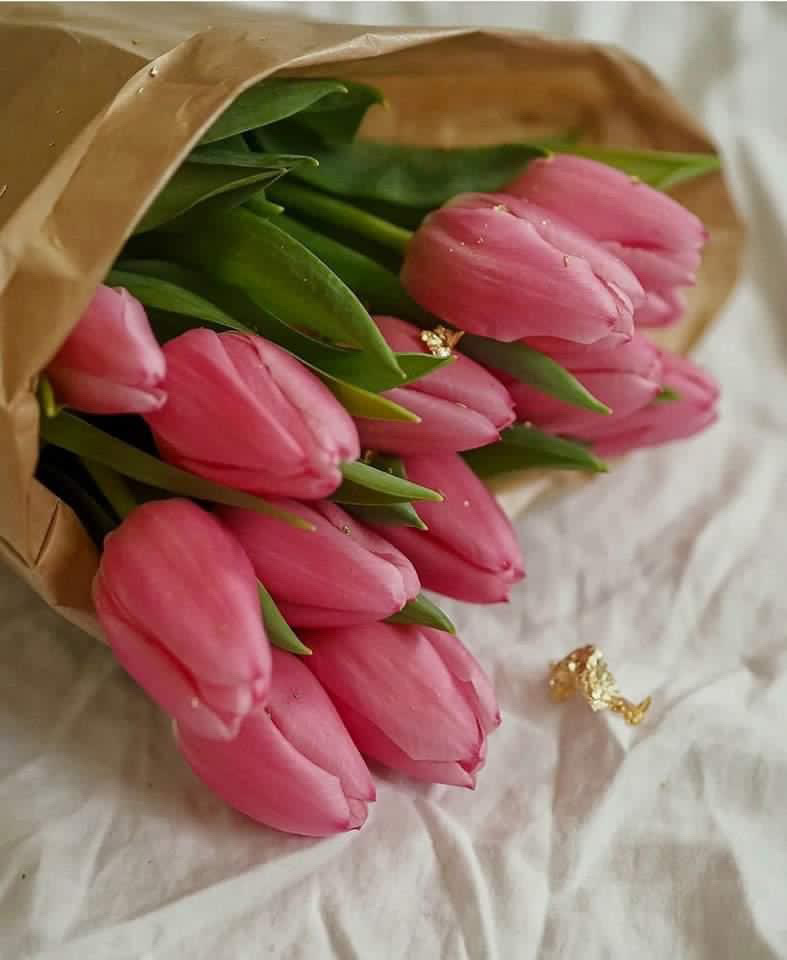tulip: (92, 494, 282, 750), (316, 571, 516, 802), (157, 314, 368, 518), (415, 184, 633, 360), (171, 686, 382, 852), (516, 142, 726, 296), (372, 436, 541, 625), (341, 308, 520, 470), (511, 329, 729, 457), (45, 282, 162, 428)
